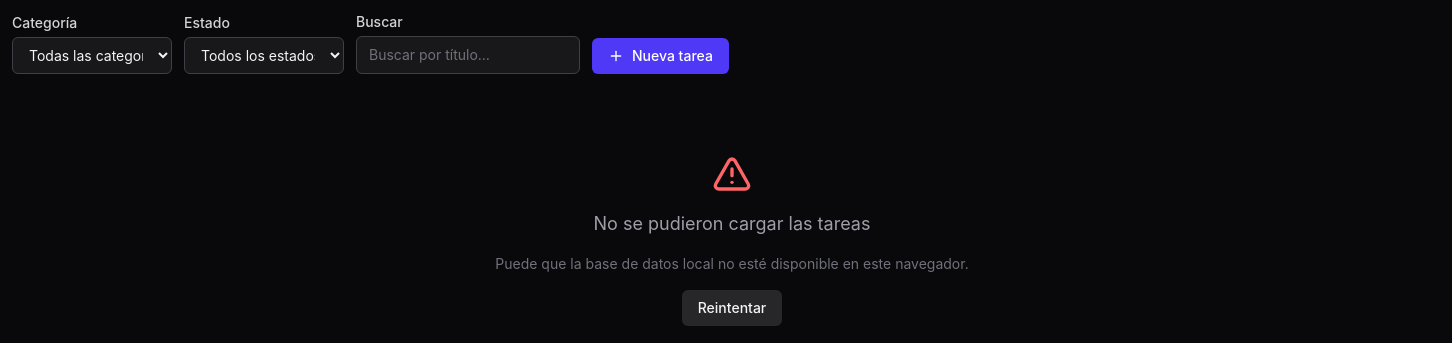
TaskList (TC-2) › TC-2 Error: a rejected query renders the error state instead of the empty state, with a working retry
The image size is (1452, 343).
Check: the text "No se pudieron cargar las tareas" is shown, box [594, 210, 870, 238]
Click the button "Reintentar". click: [732, 308]
box: [682, 290, 782, 326]
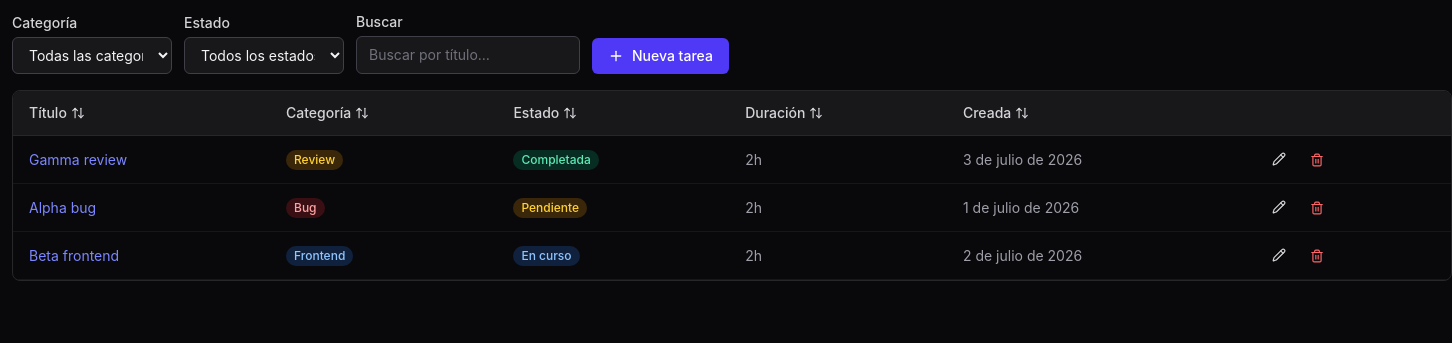
Check: the text "No se pudieron cargar las tareas" is gone
Check: the link "Gamma review" is shown, box [29, 150, 127, 168]
